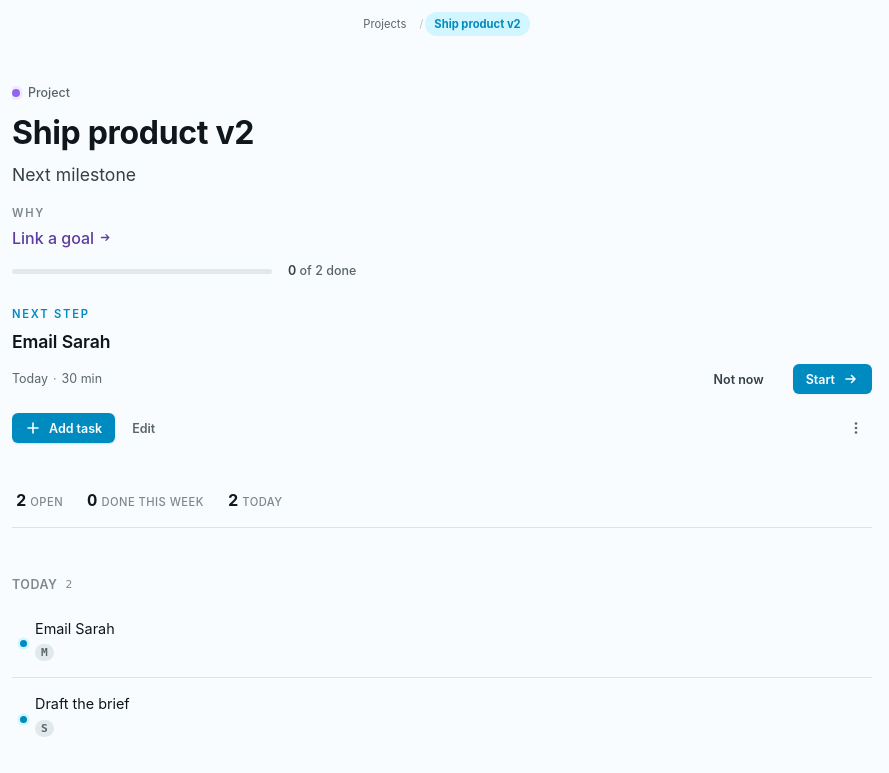
Test case: ProjectDetailPage — inline row editor (replaces the old Move picker) › an open task row exposes the property chips and Edit toggle, not a Move button
Click the text "Email Sarah" at {"x": 75, "y": 628}, box [35,620,115,636]
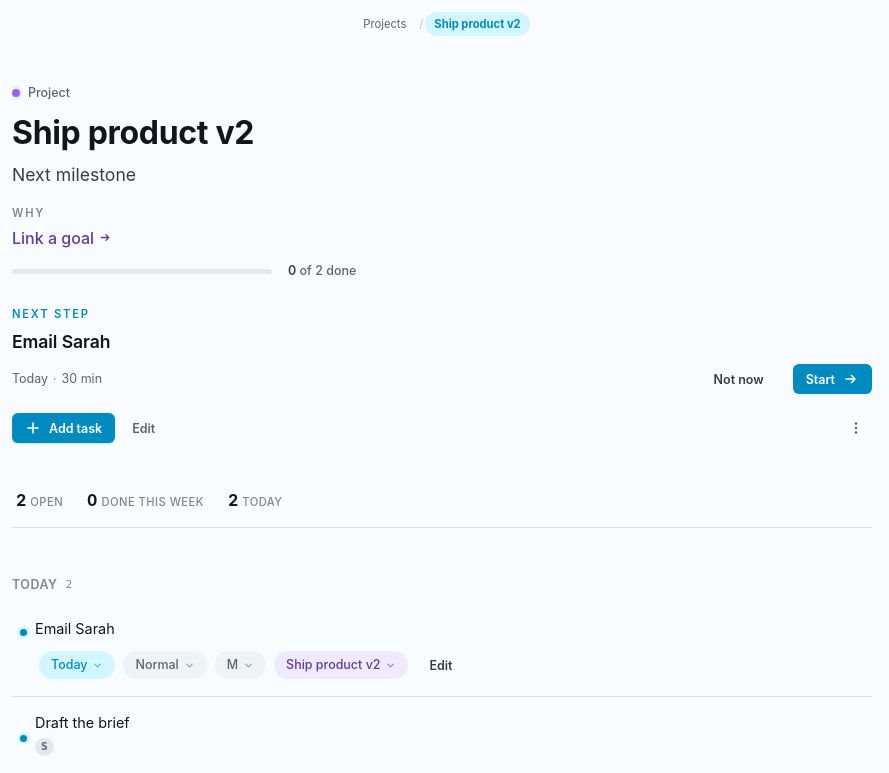
Check: the button with aria-label "edit email sarah" is shown, box [416,651,466,680]
Check: the button "M" is shown, box [215,651,266,679]
